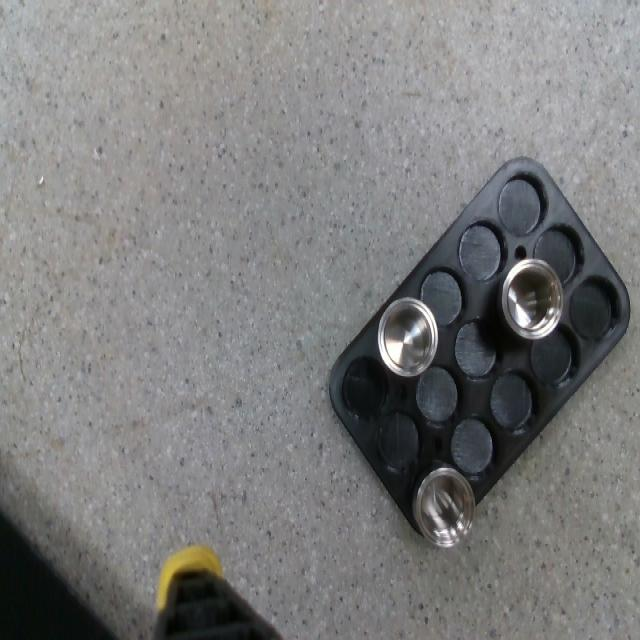sensor: (501, 259, 563, 338), (377, 298, 438, 378), (414, 467, 475, 546)
